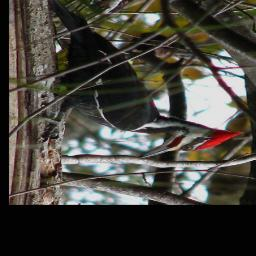Woodpecker: (36, 0, 244, 159)
